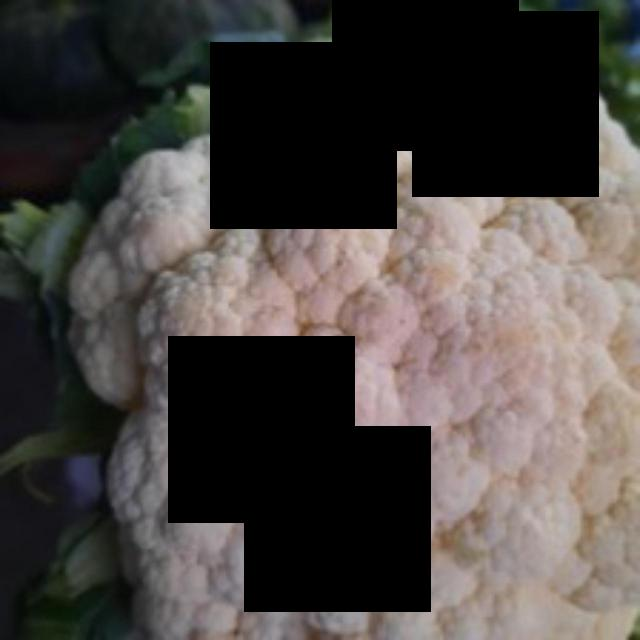cauliflower: (63, 46, 637, 636)
